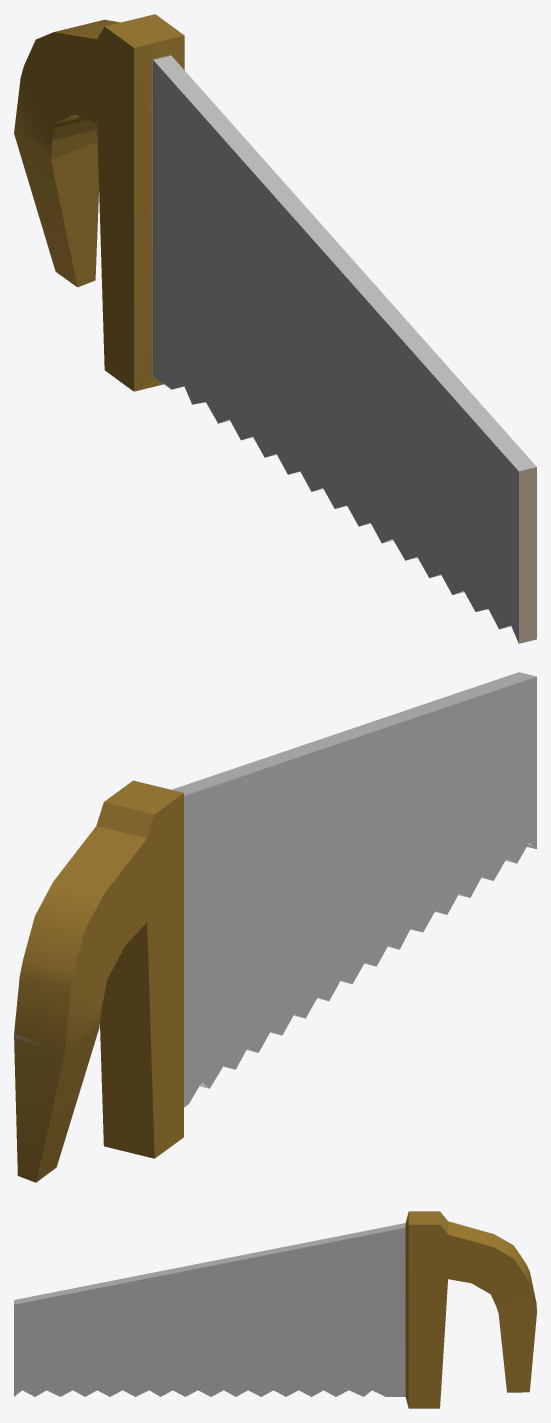
Rendered from Saw.fbx.
The picture shows the model from 3 angles, top to bottom: view 1: azimuth 30°, elevation 25°; view 2: azimuth 150°, elevation 25°; view 3: azimuth 270°, elevation 25°; orthographic projection. The views are drawn at different scales.
Parts seen in each view (by area): view 1: Saw1; view 2: Saw1; view 3: Saw1.
Boxes of the visible parts, x1,y1,x2,y2 form: Saw1: (14, 14, 536, 643); Saw1: (14, 672, 536, 1182); Saw1: (14, 1211, 536, 1408).
Bounding box in the file's own units: 5.31 × 32.36 × 83.36.
1 material, 1 textured.
